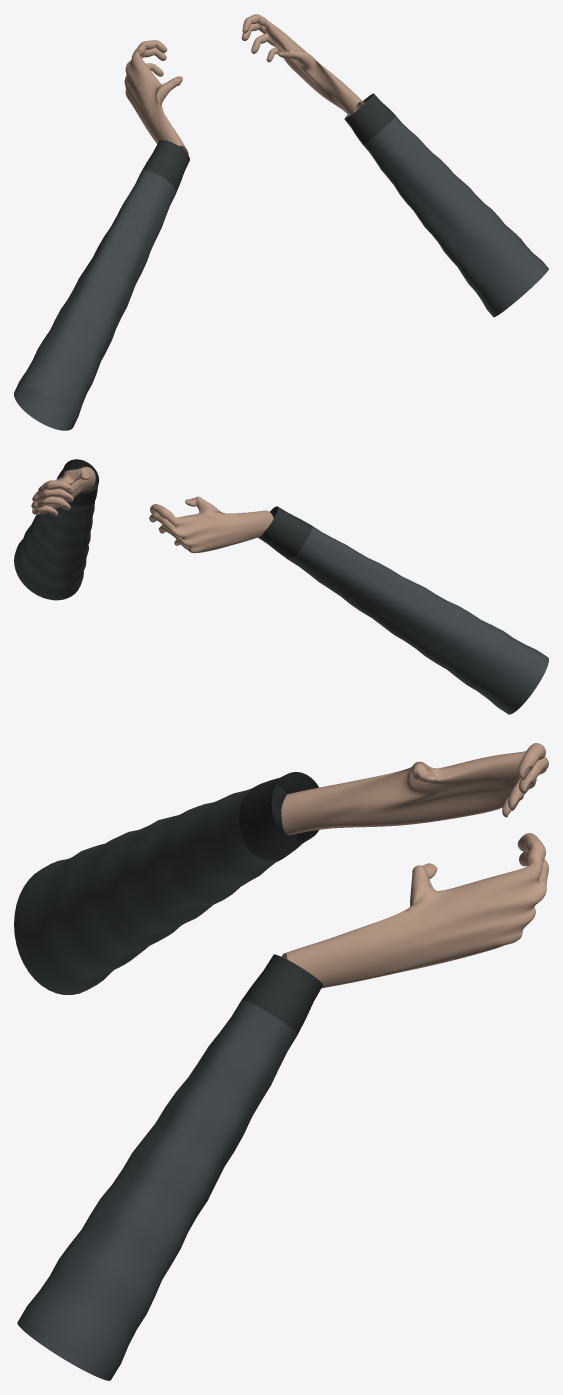
Rendered from cloth.glb.
The picture shows the model from 3 angles, top to bottom: view 1: azimuth 30°, elevation 25°; view 2: azimuth 150°, elevation 25°; view 3: azimuth 270°, elevation 25°; orthographic projection. The views are drawn at different scales.
Parts seen in each view (by area): view 1: LeftHand_cloth_Sleeve, RightHand_cloth_Sleeve, LeftHand_cloth, RightHand_cloth; view 2: LeftHand_cloth_Sleeve, RightHand_cloth_Sleeve, LeftHand_cloth, RightHand_cloth; view 3: RightHand_cloth_Sleeve, LeftHand_cloth_Sleeve, RightHand_cloth, LeftHand_cloth.
Boxes of the visible parts, x1,y1,x2,y2 form: LeftHand_cloth_Sleeve: (14,140,189,430); RightHand_cloth_Sleeve: (344,93,548,317); LeftHand_cloth: (124,40,188,154); RightHand_cloth: (241,14,364,115); LeftHand_cloth_Sleeve: (258,506,548,714); RightHand_cloth_Sleeve: (14,459,98,600); LeftHand_cloth: (149,496,273,553); RightHand_cloth: (31,466,95,516); RightHand_cloth_Sleeve: (17,954,322,1380); LeftHand_cloth_Sleeve: (14,772,318,994); RightHand_cloth: (281,833,548,988); LeftHand_cloth: (281,743,548,835).
Bounding box in the file's own units: 1.08 × 0.4772 × 0.5257.
